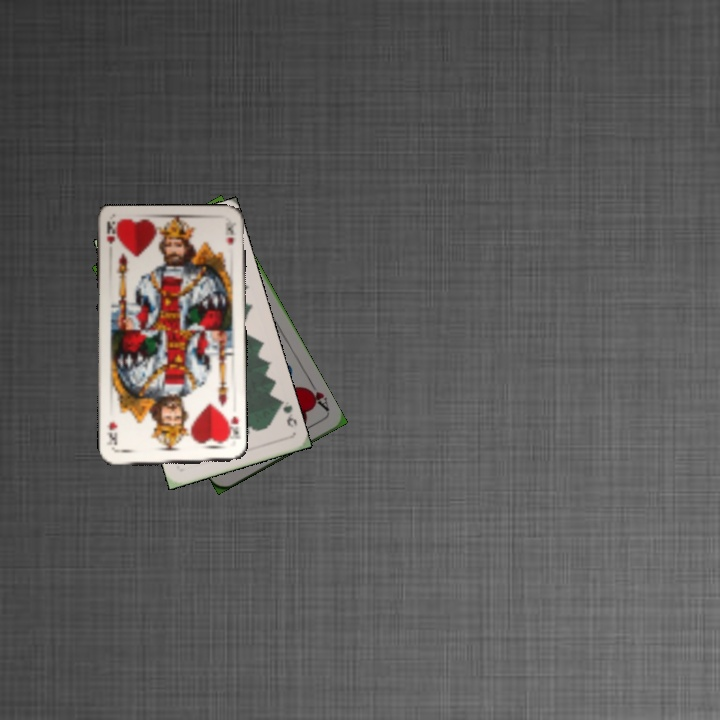G9: (274, 396, 300, 430)
HA: (301, 378, 332, 414)
HK: (222, 412, 242, 443), (102, 220, 120, 247)
